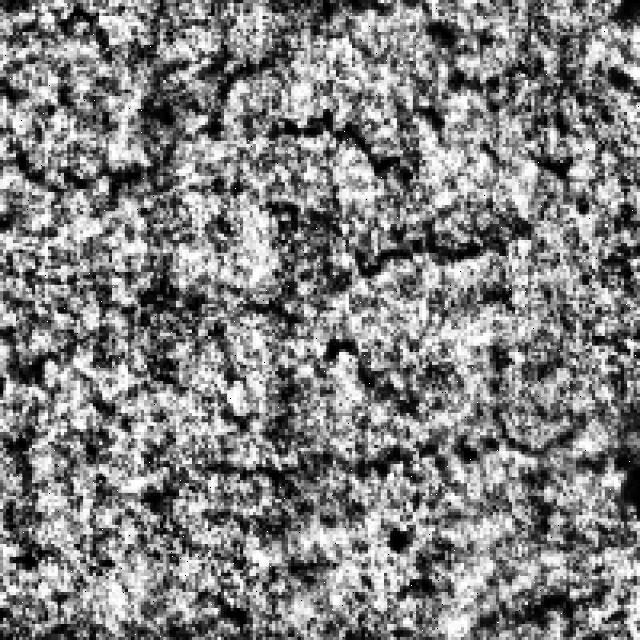Pitted_Surface: (4, 314, 582, 548), (3, 105, 586, 278)
